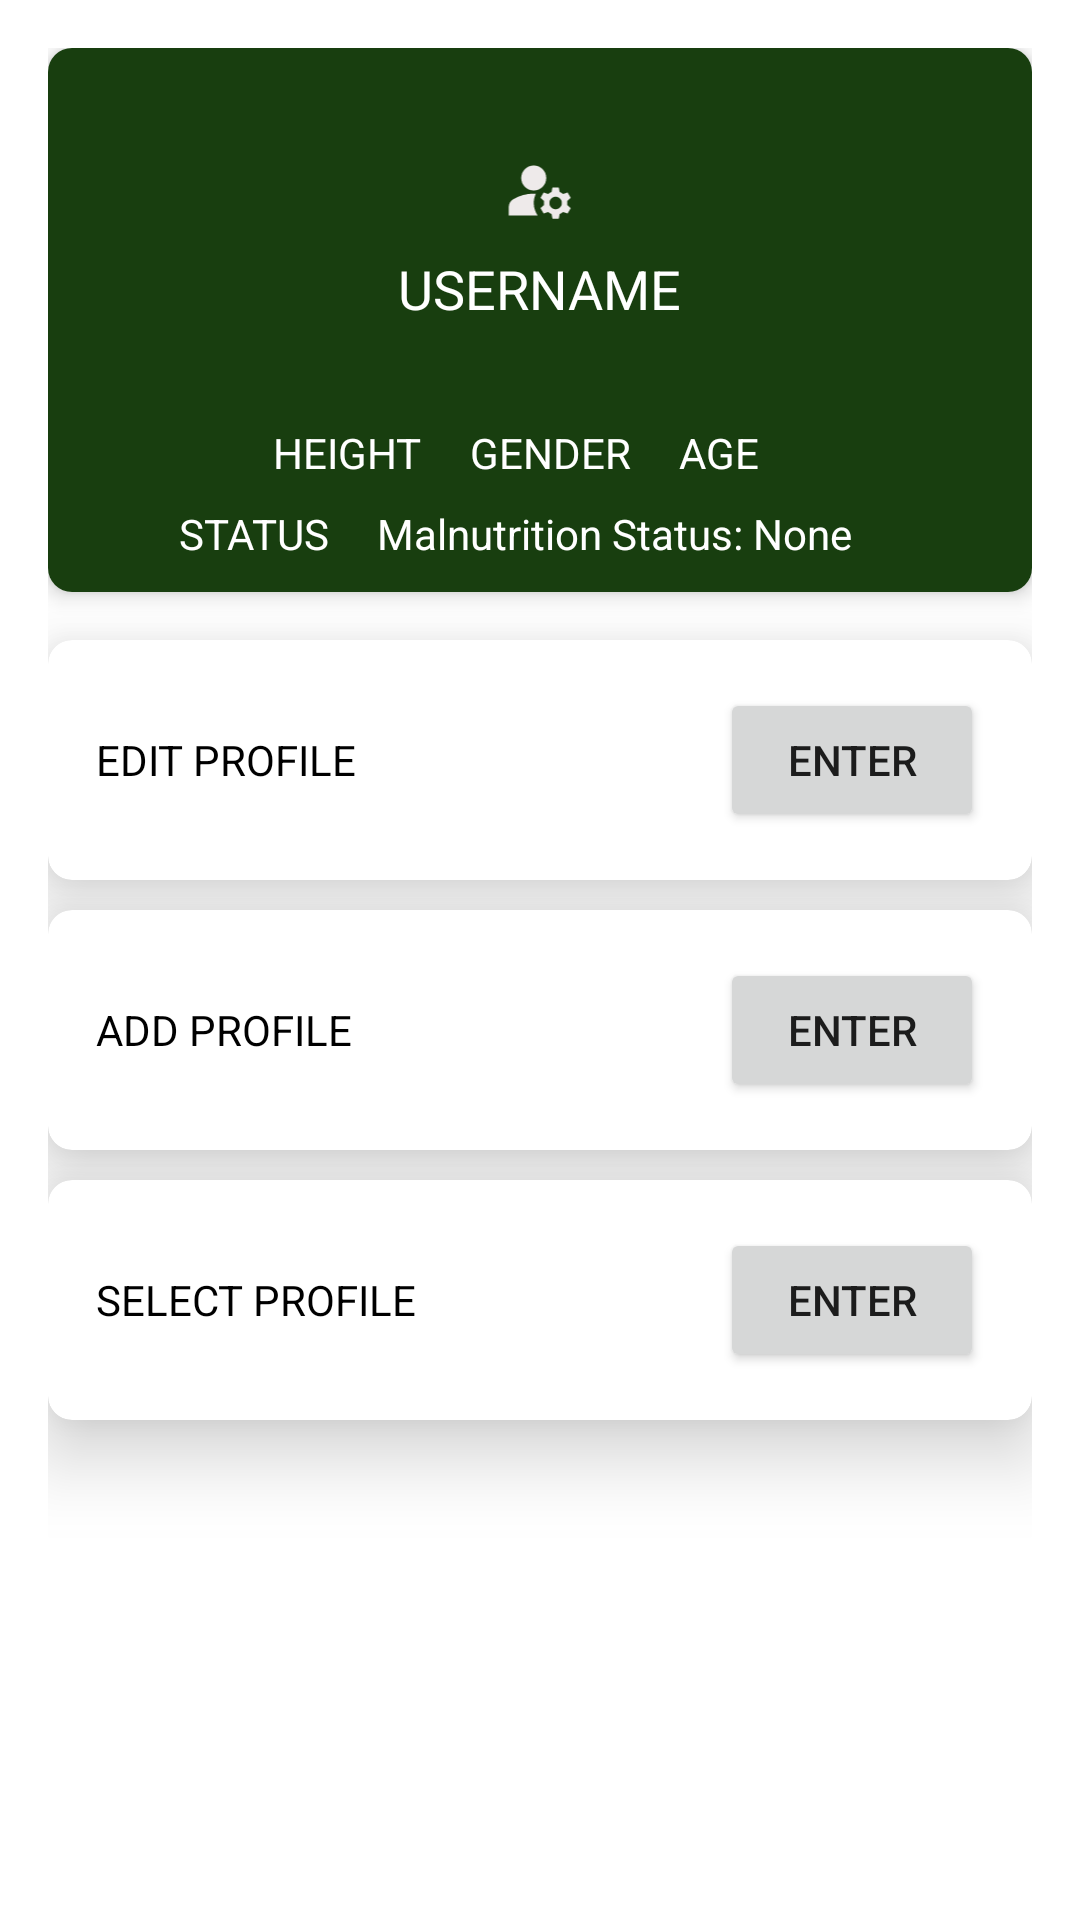

Screen size 1080 x 1920. Icon name, then its center in pixels as (x=x, y=y):
Profiles: (x=539, y=192)
